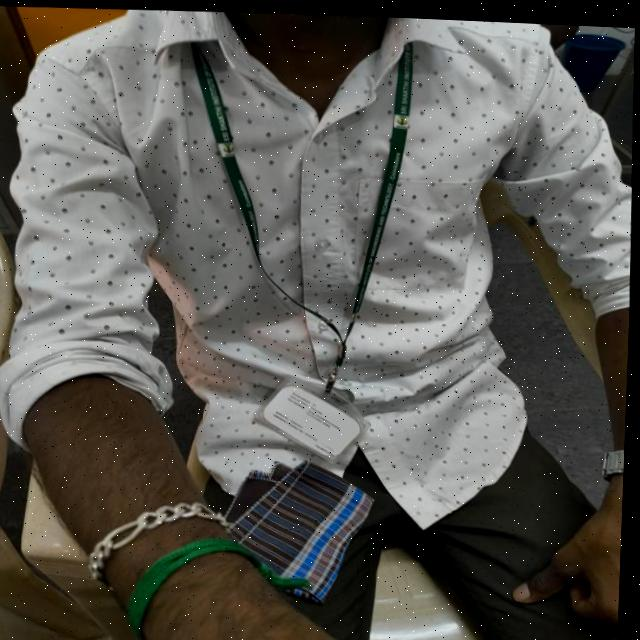id_card: (152, 38, 440, 481)
